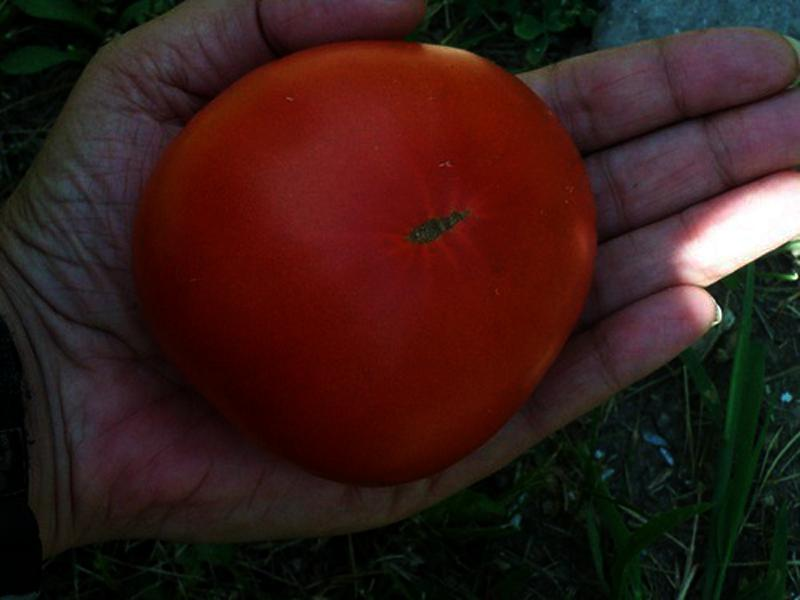Tomato: (138, 40, 595, 486)
